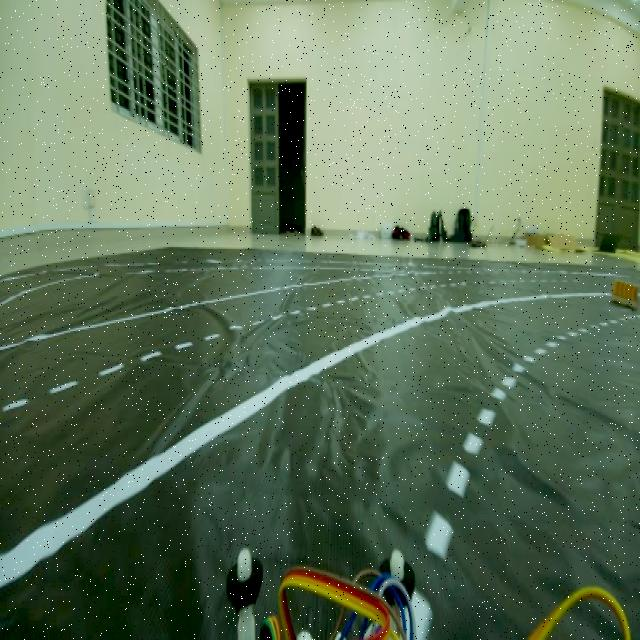roadblock: (608, 273, 638, 312)
